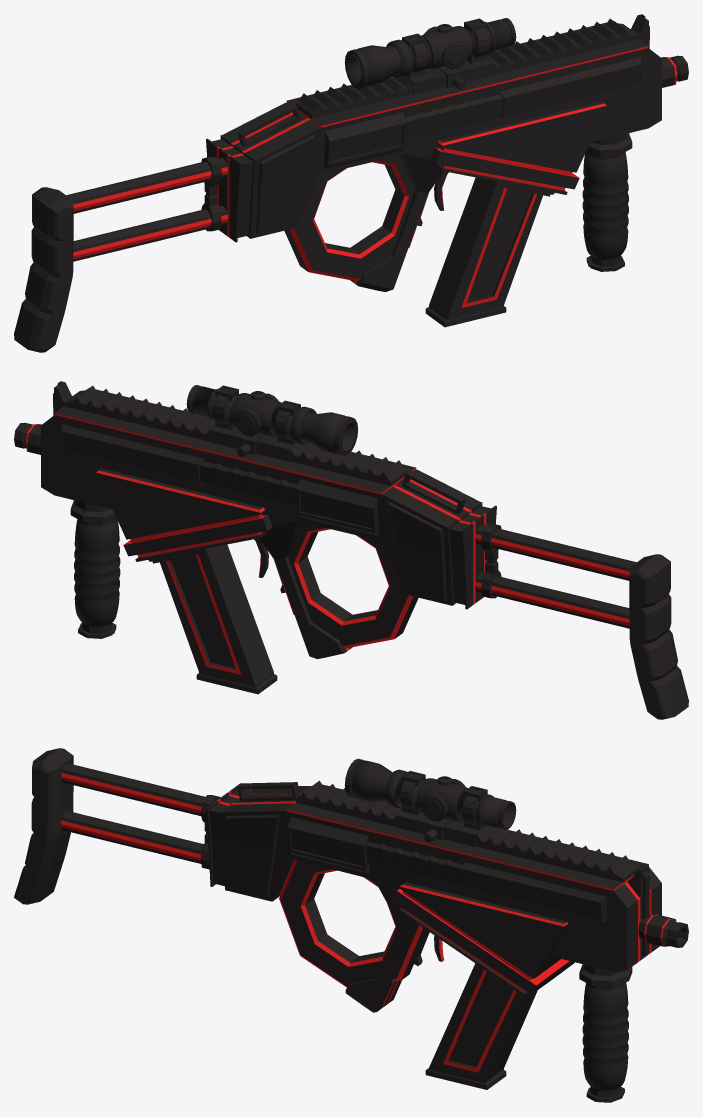
File: SMG.glb
3 views of the same model, one above another, from view 1: azimuth 30°, elevation 25°; view 2: azimuth 150°, elevation 25°; view 3: azimuth 330°, elevation 25° (orthographic).
Visible parts, largest first — view 1: SMG; view 2: SMG; view 3: SMG.
Boxes of the visible parts, left/top/right/bottom form: SMG: left=14, top=14, right=688, bottom=352; SMG: left=14, top=381, right=688, bottom=719; SMG: left=14, top=748, right=688, bottom=1102.
Bounding box in the file's own units: 0.6361 × 0.2684 × 0.072.
Materials: 1 (1 with a texture image).
